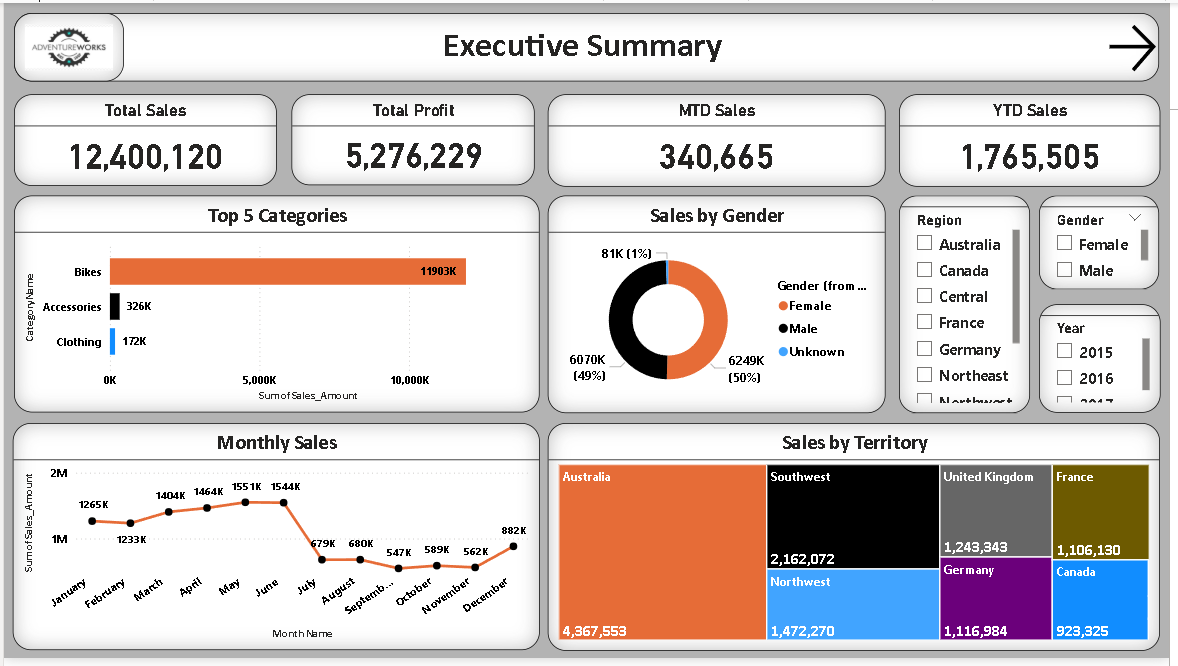

What the dashboard file says about the page in this screenshot:
{"tool":"powerbi","page":{"name":"Executive Summary","canvas":[1280,720],"ordinal":16},"visuals":[{"type":"textbox","box":[11,11,1258.3,75.5],"z":0},{"type":"card","title":"YTD Sales","fields":{"Values":["Fact_Sales.Cuurent_YTD_Sales"]},"box":[983.6,100.3,287.1,101.7],"z":1000},{"type":"card","title":"Total Sales","fields":{"Values":["Fact_Sales.Total_Revenue"]},"box":[11.5,100.6,288.8,100.6],"z":2000},{"type":"card","title":"Total Profit","fields":{"Values":["Fact_Sales.Total_Profit"]},"box":[315.4,100,267.1,100],"z":3000},{"type":"lineChart","title":"Monthly Sales","fields":{"Y":["Sum(Fact_Sales.Final_Price)"],"Category":["Fact_Sales.Month Name"]},"box":[9.6,461.1,579.1,249.7],"z":4000},{"type":"donutChart","title":"Sales by Gender","fields":{"Category":["Dim_Customers.Gender (from Name prefix)"],"Y":["Fact_Sales.Total_Revenue"]},"box":[597.6,211.5,370.9,239],"z":5000},{"type":"barChart","title":"Top 5 Categories","fields":{"Category":["Dim_Product_Categories.CategoryName"],"Y":["Sum(Fact_Sales.Final_Price)"]},"box":[11,211.3,577.7,238.8],"z":6000},{"type":"treemap","title":"Sales by Territory","fields":{"Group":["Dim_Territories.Region"],"Values":["Fact_Sales.Total_Revenue"]},"box":[597.6,461.6,673.1,250],"z":7000},{"type":"slicer","fields":{"Values":["Fact_Sales.Year"]},"box":[1137.4,331.1,133.2,119.5],"z":8000},{"type":"slicer","fields":{"Values":["Dim_Territories.Region"]},"box":[983.6,211.5,144.2,239],"z":9000},{"type":"card","title":"MTD Sales","fields":{"Values":["Fact_Sales.Current_MTD"]},"box":[597.6,100.3,370.9,101.7],"z":10000},{"type":"slicer","fields":{"Values":["Dim_Customers.Gender (from Name prefix)"]},"box":[1137.4,211.5,131.9,103],"z":11000},{"type":"actionButton","box":[1207,15.8,63.2,66.1],"z":12000},{"type":"image","box":[11,11,120.9,75.6],"z":13000}]}

Visuals, with their boxes in screenshot pixels (x1, y1, x2, y2), scaled from the page's 1280x720 canvas onto the 1178x666 screenshot:
textbox: <box>10,10,1168,80</box>
"YTD Sales" card: <box>905,93,1169,187</box>
"Total Sales" card: <box>11,93,276,186</box>
"Total Profit" card: <box>290,92,536,185</box>
"Monthly Sales" lineChart: <box>9,427,542,657</box>
"Sales by Gender" donutChart: <box>550,196,891,417</box>
"Top 5 Categories" barChart: <box>10,195,542,416</box>
"Sales by Territory" treemap: <box>550,427,1169,658</box>
slicer - Fact_Sales.Year: <box>1047,306,1169,417</box>
slicer - Dim_Territories.Region: <box>905,196,1038,417</box>
"MTD Sales" card: <box>550,93,891,187</box>
slicer - Dim_Customers.Gender (from Name prefix): <box>1047,196,1168,291</box>
actionButton: <box>1111,15,1169,76</box>
image: <box>10,10,121,80</box>
